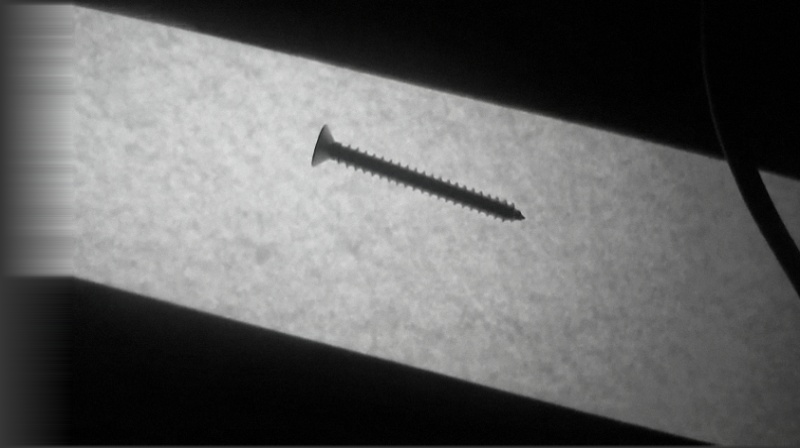S002: (307, 123, 528, 224)
